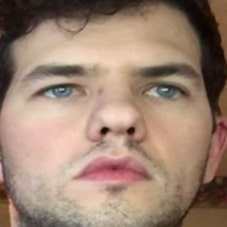drowsy: (19, 52, 207, 208)
